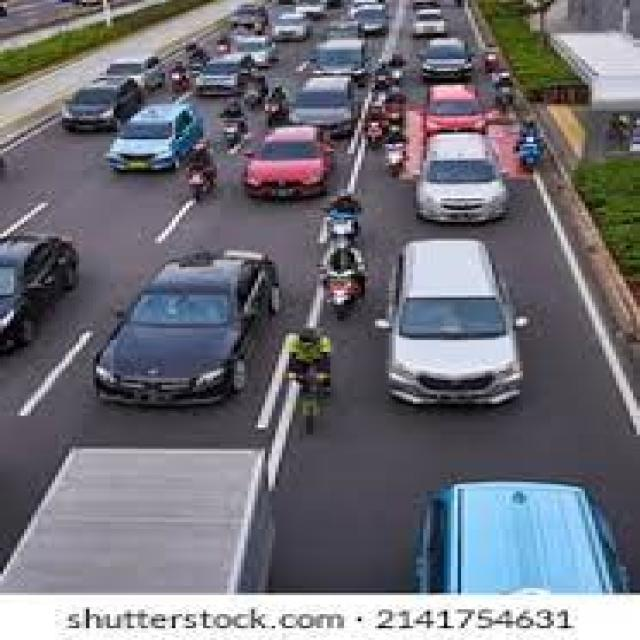high_traffic: (40, 0, 518, 460)
